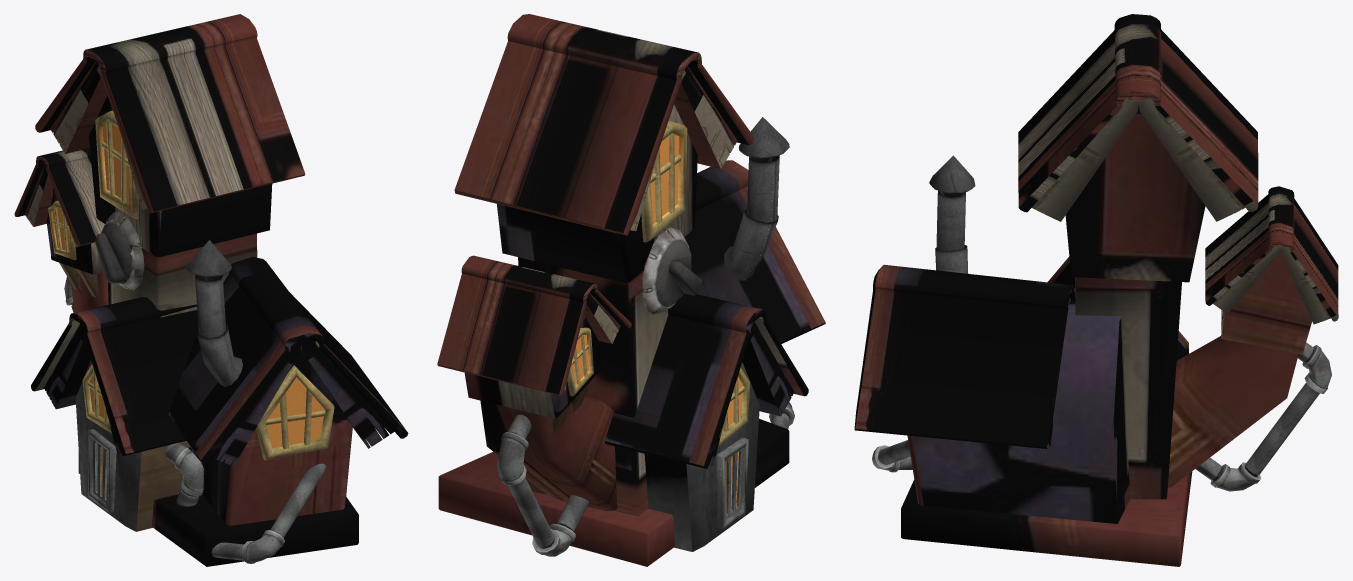
The picture shows the model from 3 angles, left to right: view 1: azimuth 30°, elevation 25°; view 2: azimuth 150°, elevation 25°; view 3: azimuth 270°, elevation 25°; orthographic projection. The views are drawn at different scales.
Parts seen in each view (by area): view 1: RigModels_HalloweenHouse; view 2: RigModels_HalloweenHouse; view 3: RigModels_HalloweenHouse.
Boxes of the visible parts, x1,y1,x2,y2 form: RigModels_HalloweenHouse: (14,14,408,566); RigModels_HalloweenHouse: (437,14,825,566); RigModels_HalloweenHouse: (854,14,1338,566).
Size of the model in its own units: 149 by 250 by 243.
Materials: 2 (2 with a texture image).
